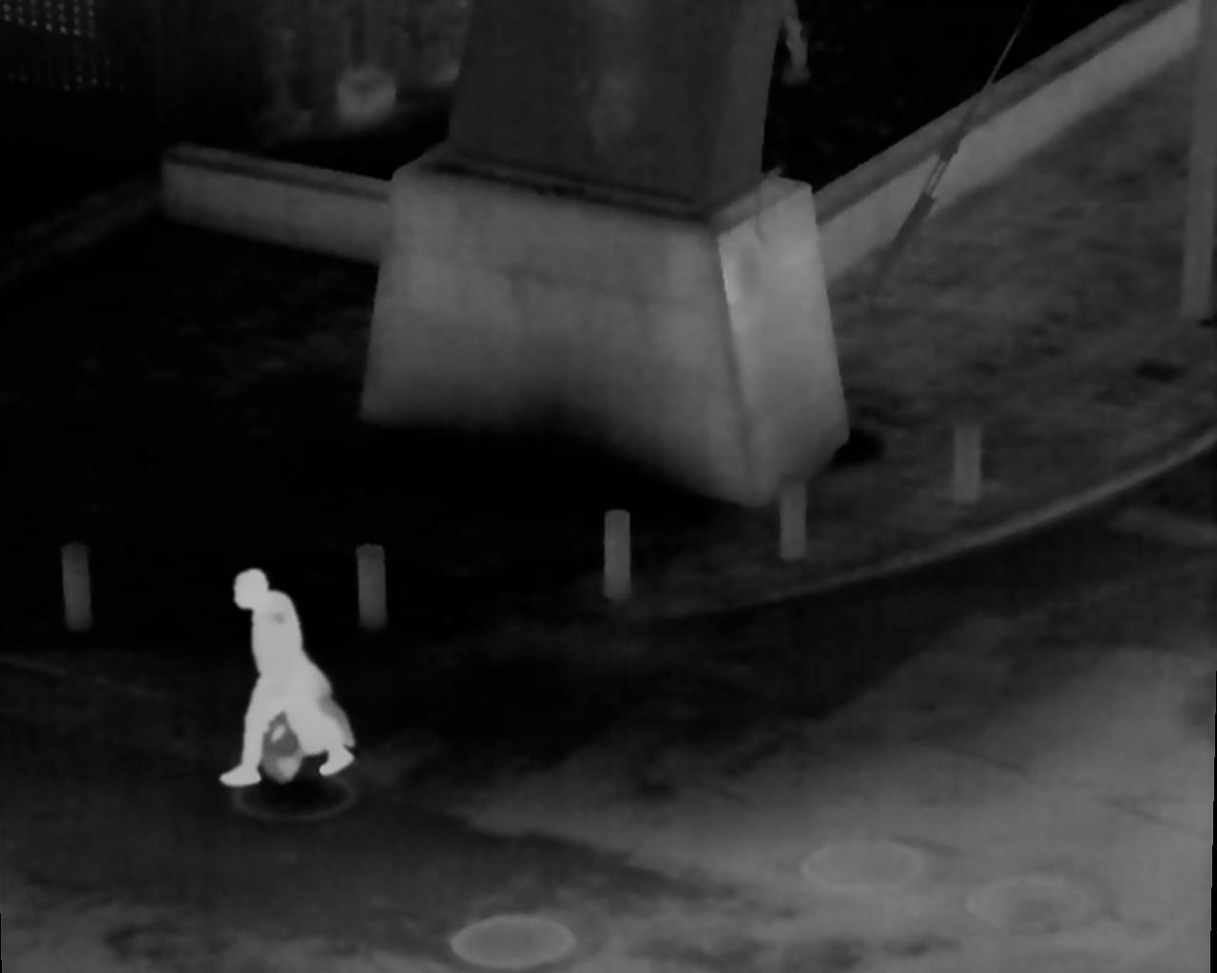person: (231, 562, 354, 789)
